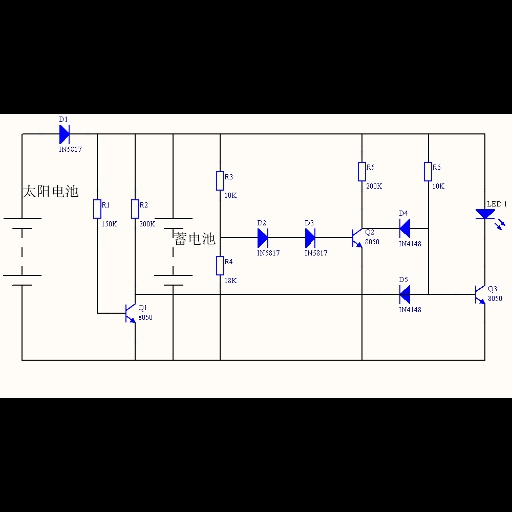battery: (1, 213, 47, 291), (153, 213, 195, 290)
firstdiode: (393, 218, 415, 239), (253, 226, 272, 250), (55, 124, 73, 147), (395, 284, 414, 305), (301, 226, 318, 249)
firstled: (471, 207, 506, 232)
firstresistance: (420, 159, 432, 184), (213, 169, 225, 193), (212, 254, 224, 277), (355, 159, 366, 184), (91, 196, 101, 223), (128, 197, 139, 221)
npn: (468, 278, 487, 309), (118, 300, 137, 329), (347, 224, 365, 254)
